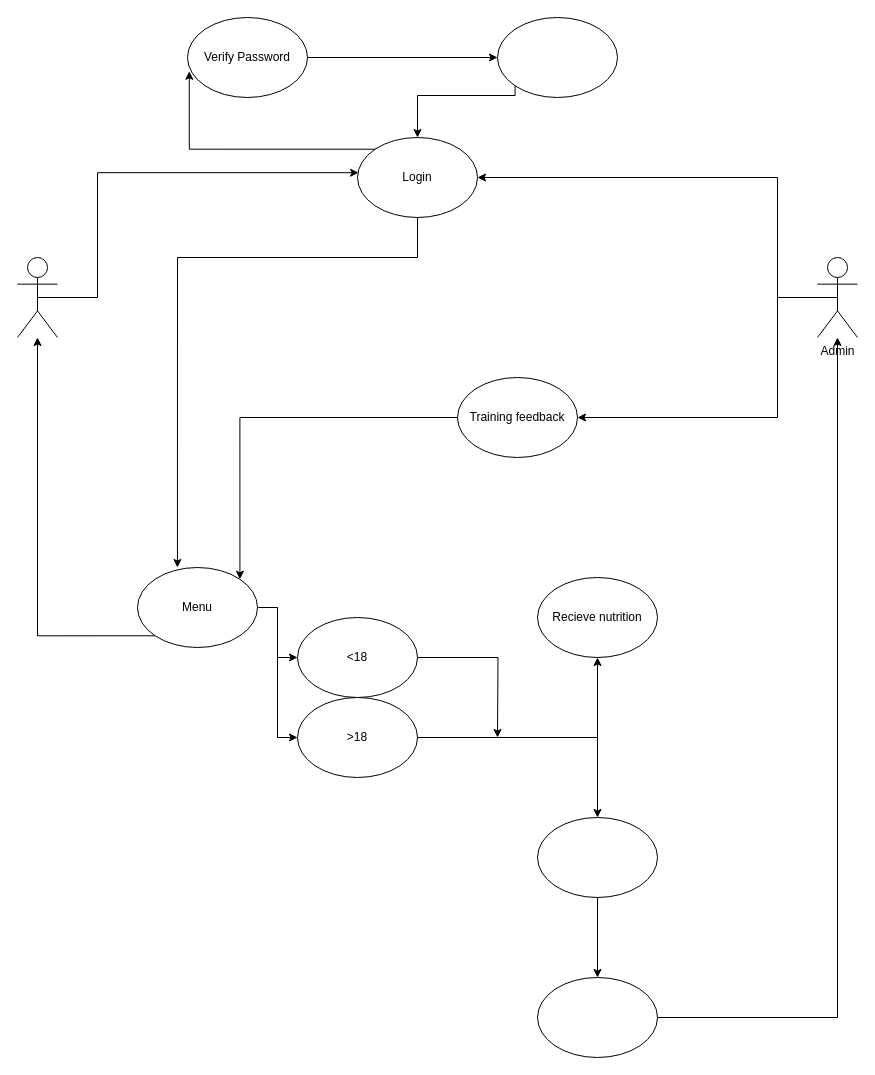
Some shapes in this 875 by 1075 pixel diagram are drawn without their labels. Here are the shapes that lost their labels. From the top down, the centre of each, then its label:
(557,57): Display Login Error
(37,297): User
(597,857): Recieve training
(597,1017): Upload data
